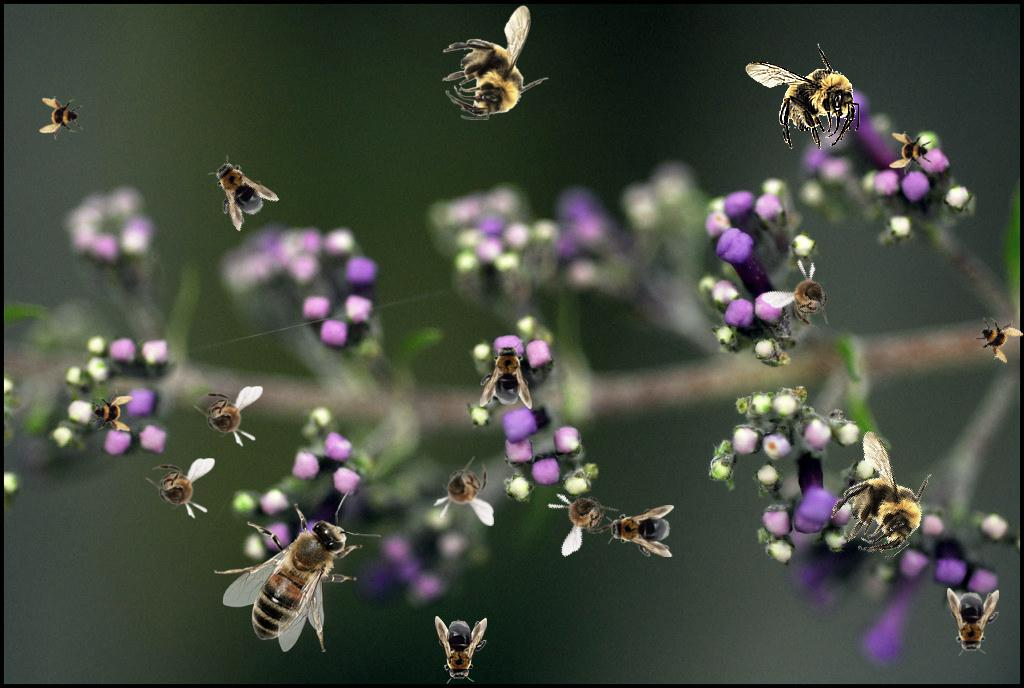Bee: (214, 490, 381, 652), (801, 416, 958, 573), (442, 5, 549, 120), (745, 43, 860, 150), (760, 249, 853, 341), (537, 472, 628, 558), (196, 147, 280, 233), (433, 456, 494, 526), (145, 458, 215, 519), (193, 386, 263, 447), (480, 341, 532, 409), (606, 505, 674, 557), (435, 616, 487, 684), (947, 588, 999, 656), (968, 307, 1024, 367), (89, 389, 133, 433), (39, 96, 83, 140), (889, 131, 933, 175)
